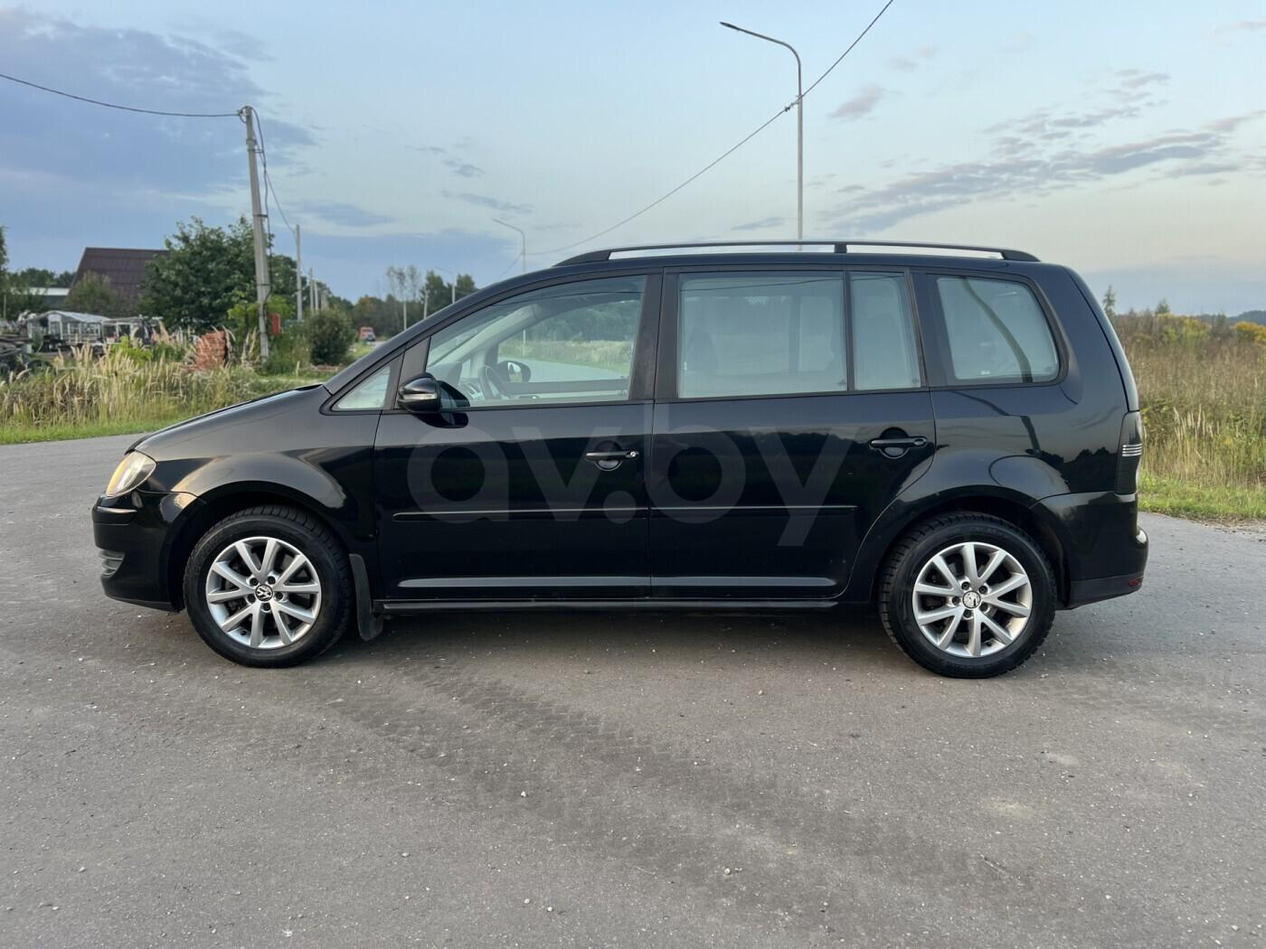Touran_2006-2010: (89, 241, 1152, 689)
